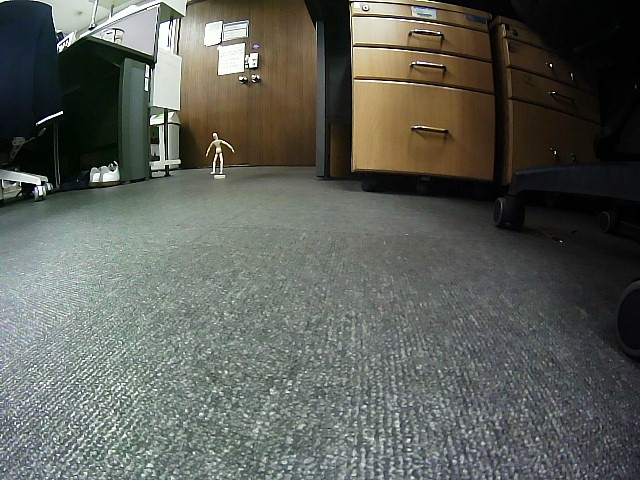person: (205, 132, 233, 174)
